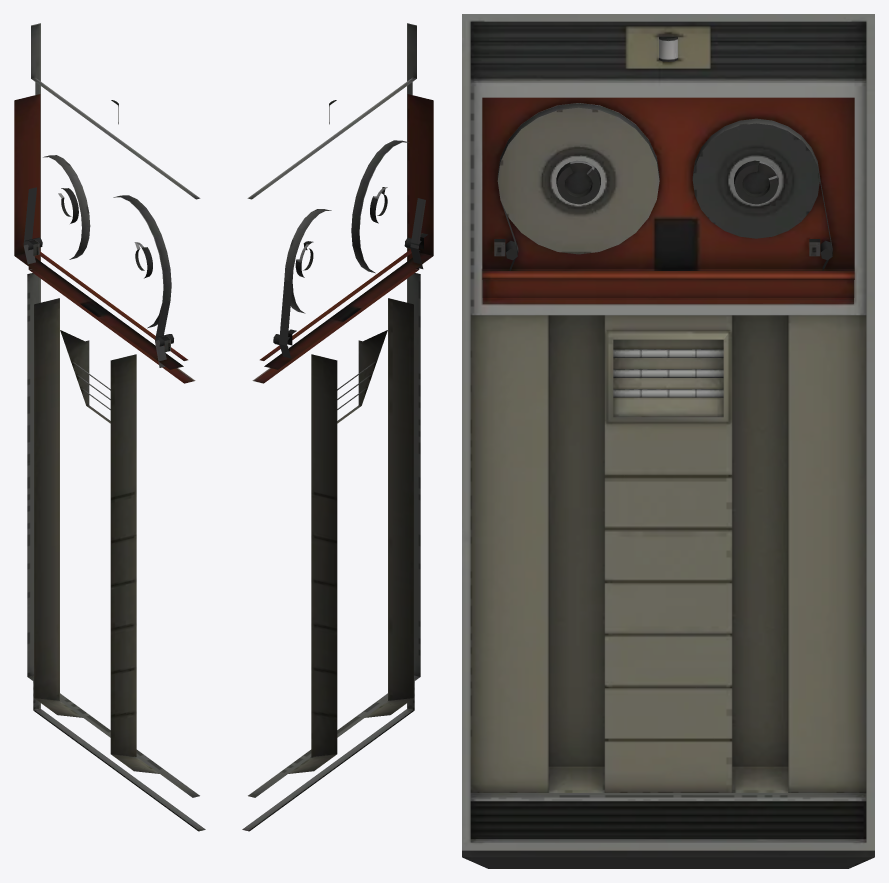
3 views of the same model, side by side, from view 1: azimuth 30°, elevation 25°; view 2: azimuth 150°, elevation 25°; view 3: azimuth 270°, elevation 25° (orthographic). The views are drawn at different scales.
Visible parts, largest first — view 1: body0_model0_lod0_mesh0; view 2: body0_model0_lod0_mesh0; view 3: body0_model0_lod0_mesh0.
Part boxes in pixels (<box>): body0_model0_lod0_mesh0: <box>14,23,205,831</box>; body0_model0_lod0_mesh0: <box>242,23,433,831</box>; body0_model0_lod0_mesh0: <box>462,14,874,868</box>.
Size of the model in its own units: 6.49 by 112 by 47.99.
Materials: 1 (1 with a texture image).
